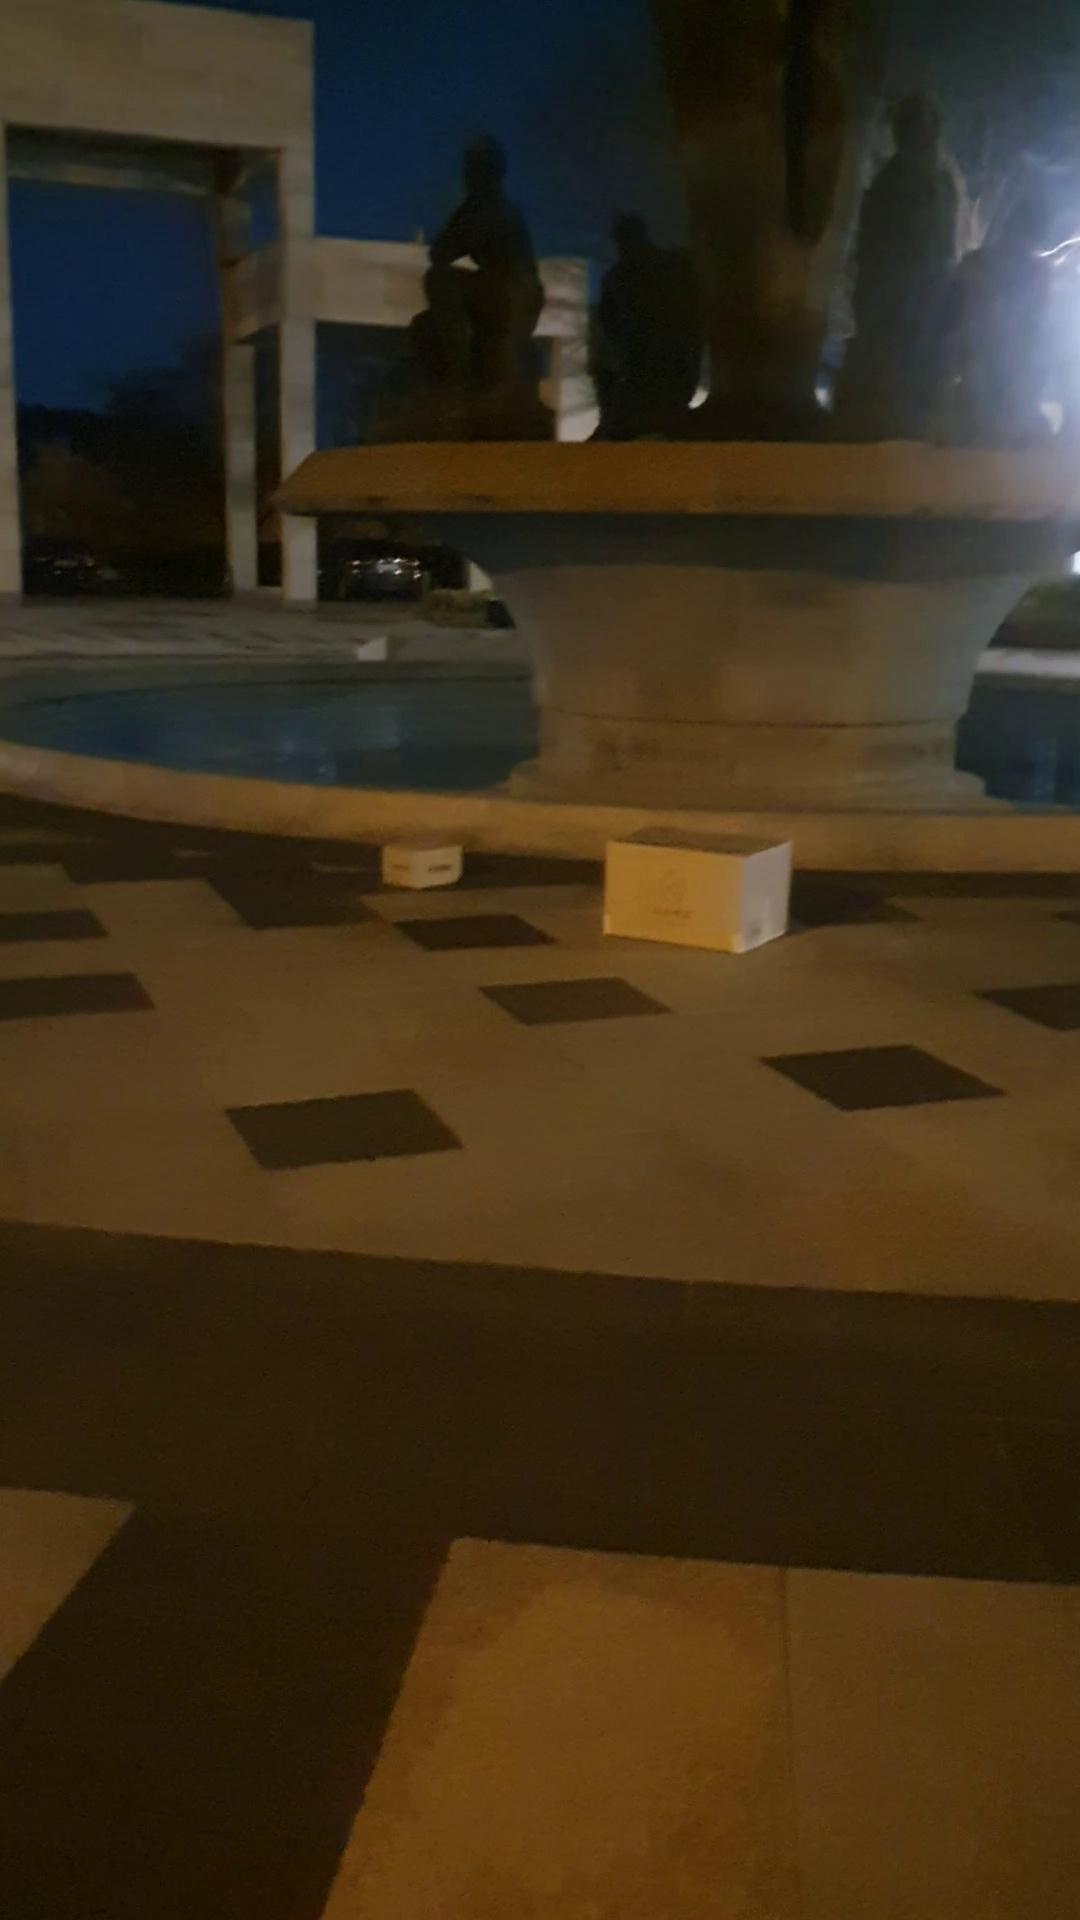Box: (593, 818, 808, 963), (376, 815, 465, 899)
